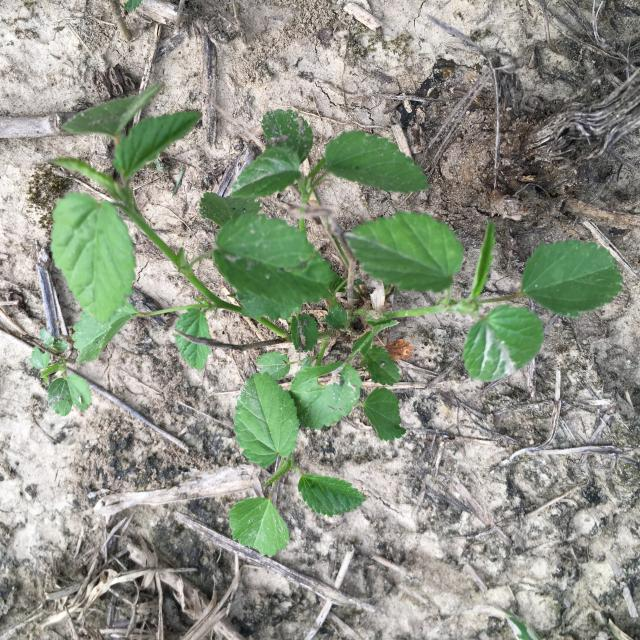PricklySida: (30, 82, 624, 558)
